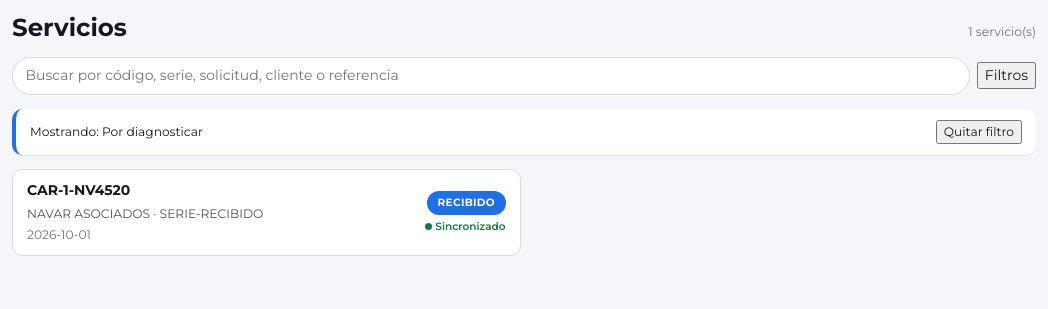
Test: ListaServiciosPage · filtro por tarjeta de Inicio › "Quitar filtro" vuelve a mostrar todos
Click the button "Quitar filtro". click: (979, 132)
box: [936,120,1022,144]
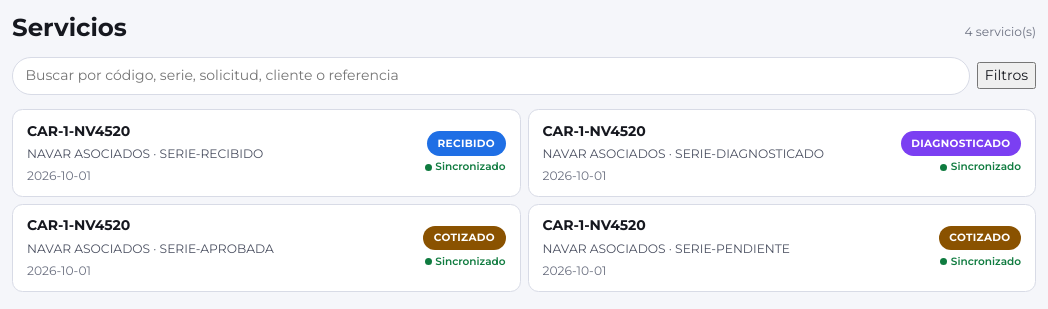
Now the text "NAVAR ASOCIADOS · SERIE-RECIBIDO" is shown 4 times, box [27,145,263,164]; [542,145,824,164]; [27,240,274,258]; [542,240,790,258]
Now the text "Mostrando:" is gone
